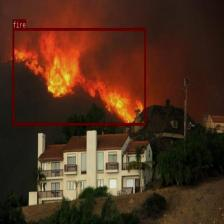fire: (12, 28, 146, 125)
